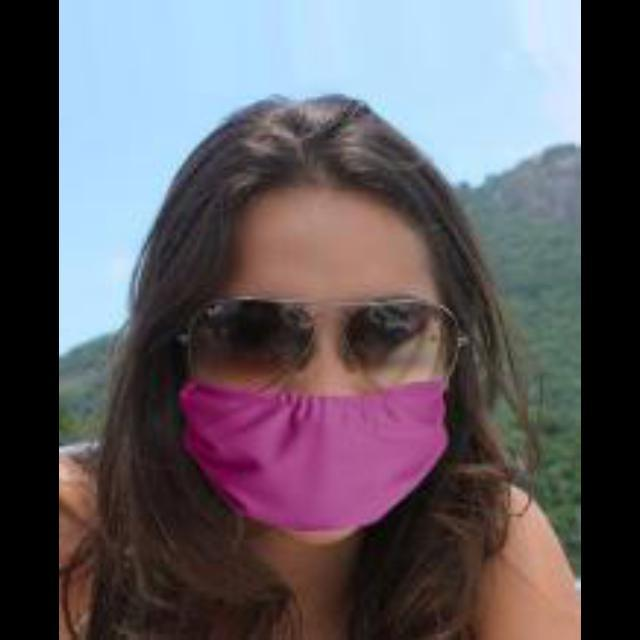suspicion: (178, 150, 472, 522)
